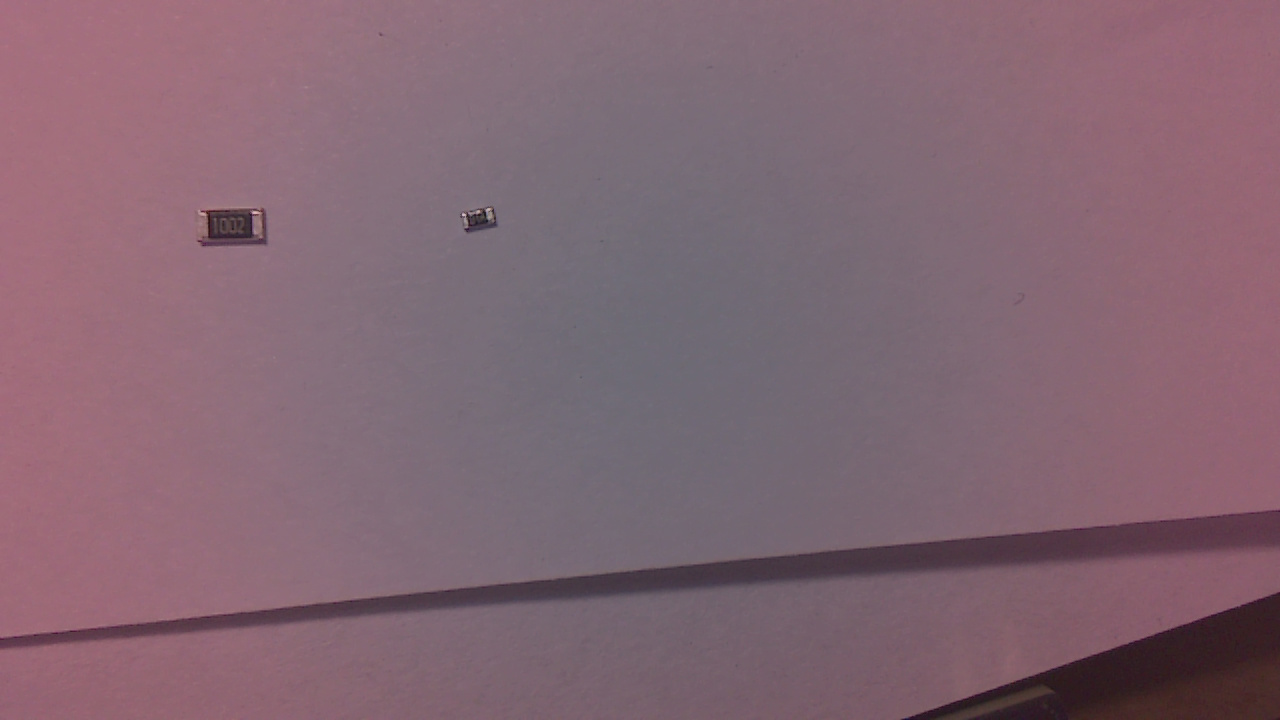Resistor: (199, 213, 271, 252), (463, 210, 502, 236)
